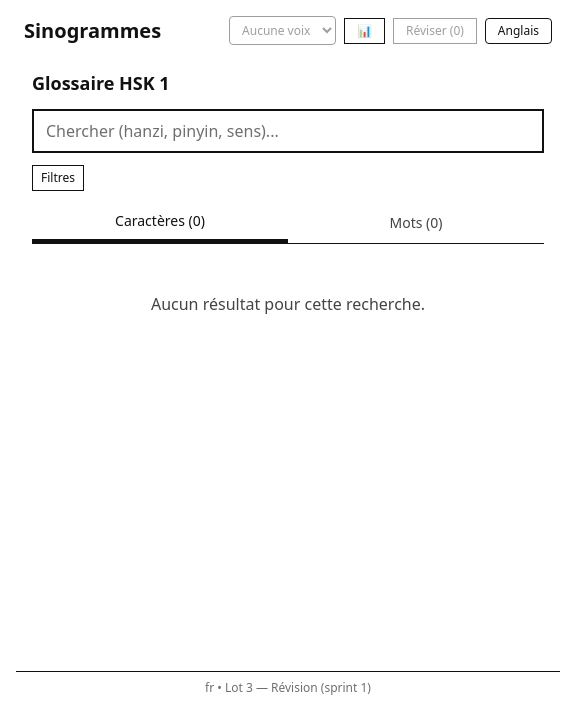
Test: App › revient au français après deux bascules
The width and height of the screenshot is (577, 713).
Click the button with test id "language-toggle".
click(518, 30)  # box x1=485 y1=18 x2=552 y2=44
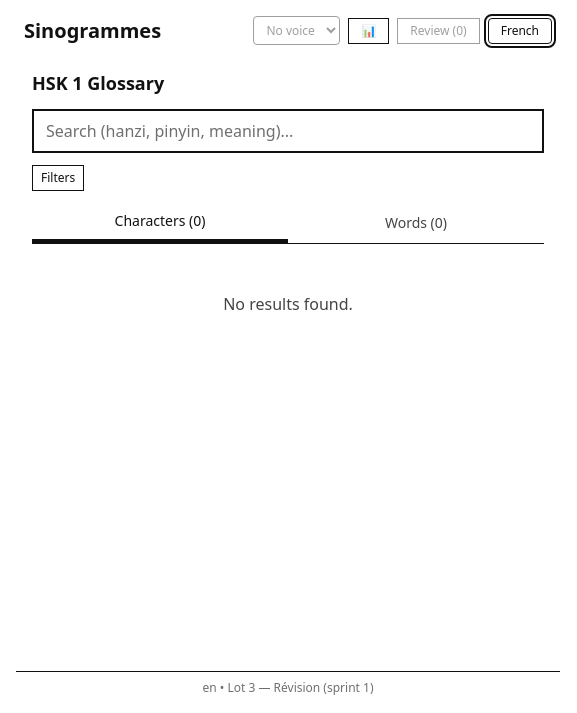
Click the button with test id "language-toggle".
click(520, 30)  # box x1=488 y1=18 x2=552 y2=44
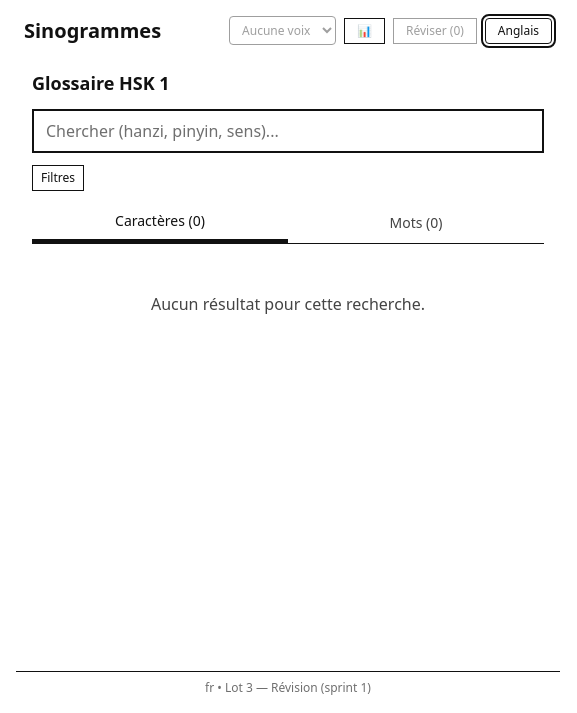
Check: the text with test id "current-language" shows "fr", box x1=205 y1=679 x2=214 y2=696
